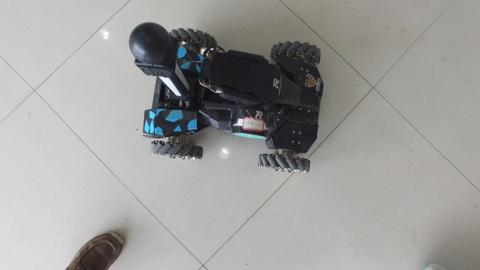chariot: (119, 17, 328, 177)
